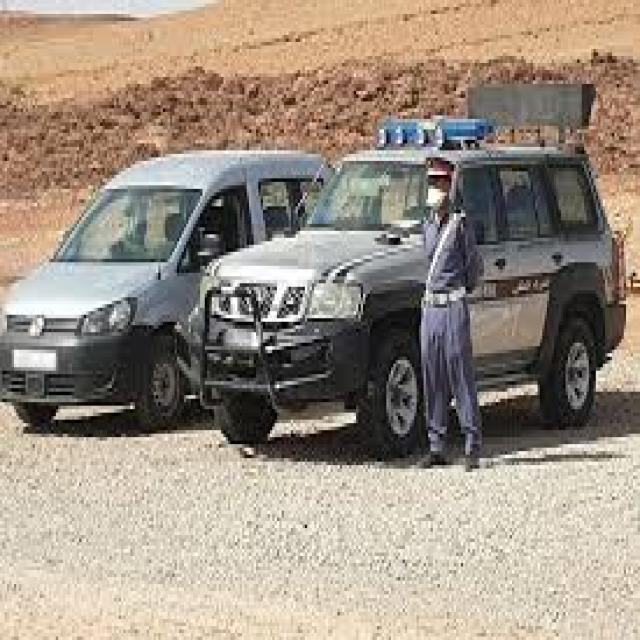gendarme car: (192, 112, 628, 455)
